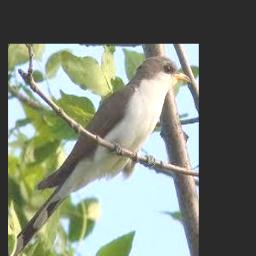Cuckoo: (8, 56, 191, 256)
